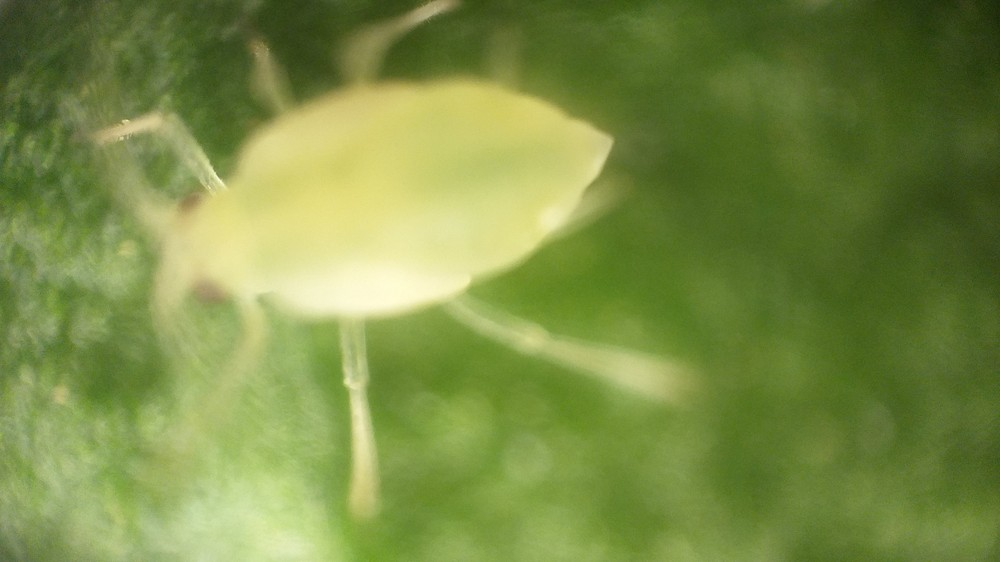Pulgon: (80, 18, 742, 520)
